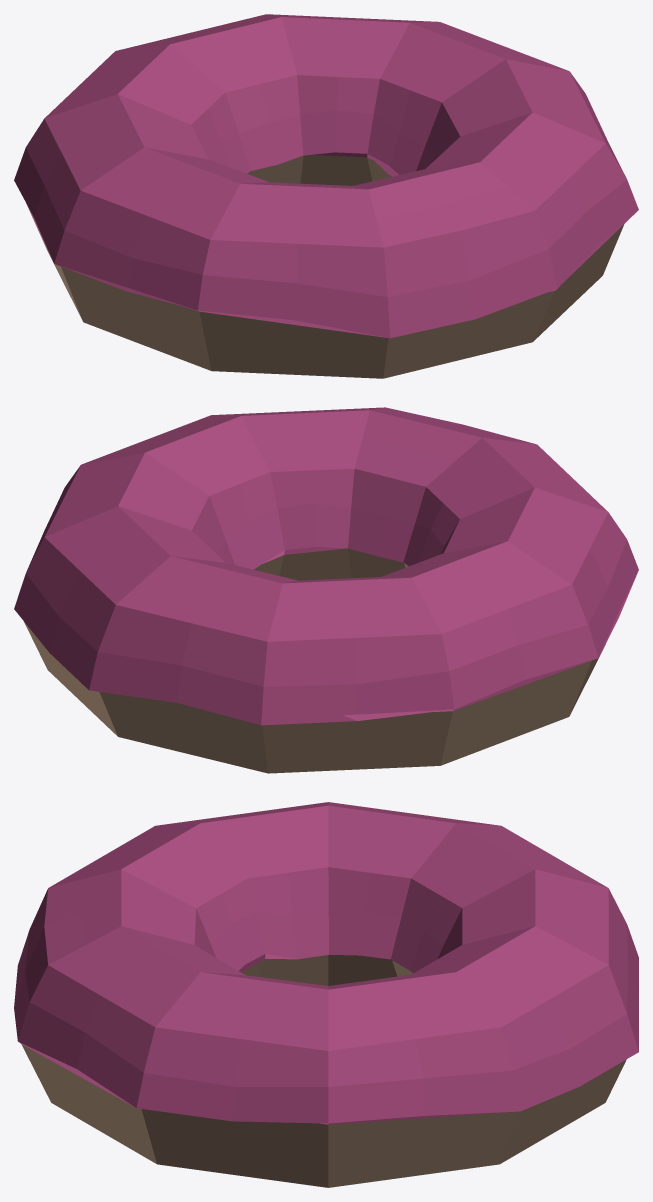
The model's file is 3DMODELS_Props_Food_StrawberryDonut01.fbx.
3 views of the same model, one above another, from view 1: azimuth 30°, elevation 25°; view 2: azimuth 150°, elevation 25°; view 3: azimuth 270°, elevation 25° (orthographic). The views are drawn at different scales.
Parts seen in each view (by area): view 1: pTorus1; view 2: pTorus1; view 3: pTorus1.
Part boxes in pixels (x1,y1,x2,y2): pTorus1: (14, 14, 638, 378); pTorus1: (14, 407, 638, 773); pTorus1: (14, 802, 638, 1187).
Size of the model in its own units: 3.03 by 0.8563 by 2.9.
